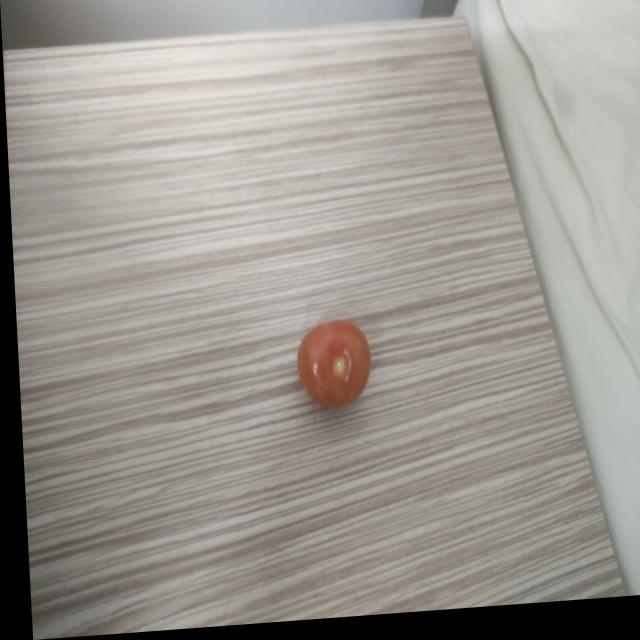sari: (285, 302, 373, 438)
